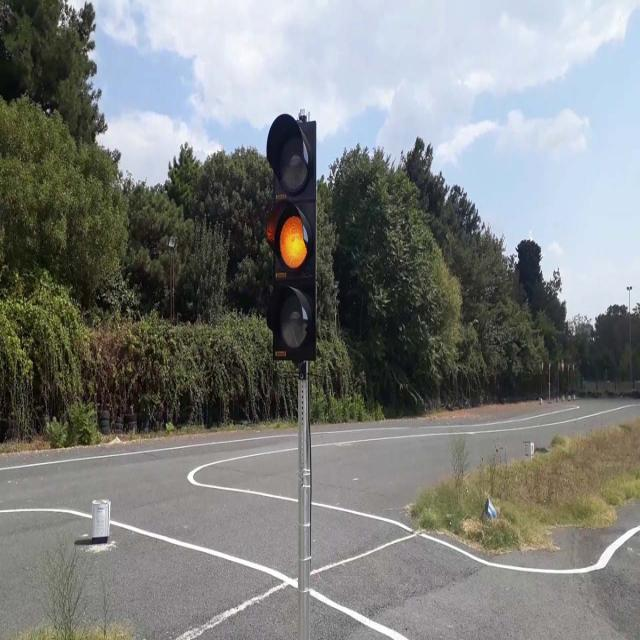sari: (268, 112, 314, 357)
